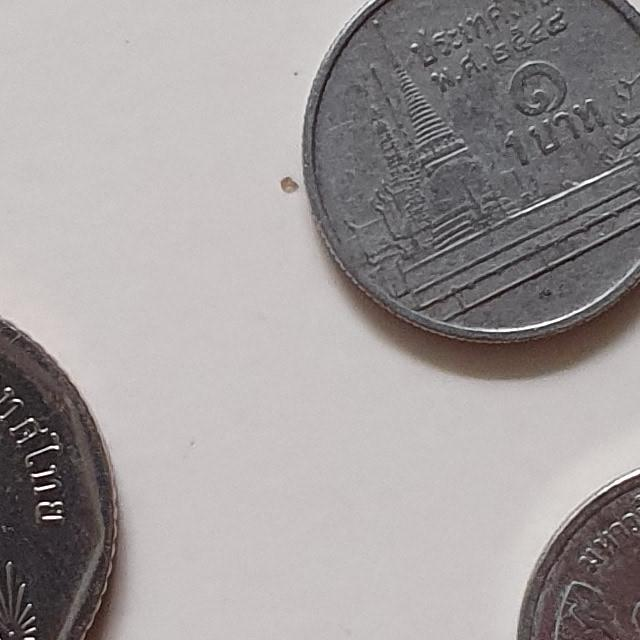1 Bath: (299, 1, 640, 359), (509, 462, 640, 640)
5 Bath: (1, 311, 133, 640)
